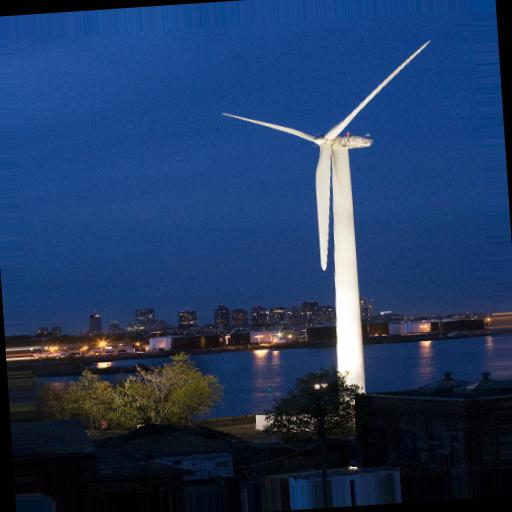wind turbine: (222, 39, 433, 401)
